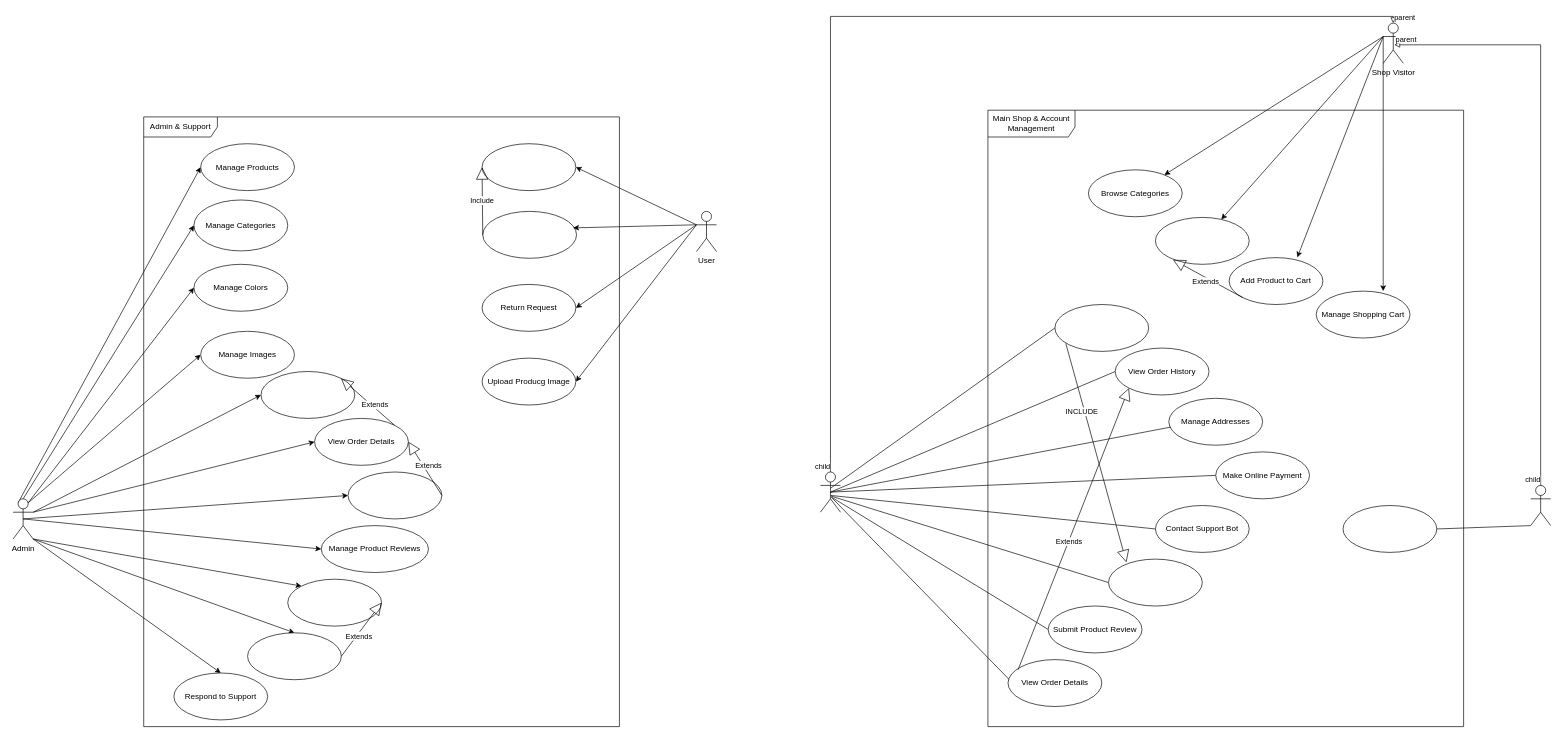
Some shapes in this 1562 by 738 pixel diagram are drawn without their labels. Each missing label, with the centre of its shape:
Browse Products: point (1202, 240)
Customer: point (830, 491)
Guest: point (1540, 505)
Login: point (1101, 327)
Place Order: point (1155, 582)
Register: point (1389, 528)
Update Order Status: point (394, 495)
Veiw Order Information: point (529, 234)
Verify Order: point (528, 167)
View Dashboard: point (334, 602)
View Orders: point (307, 394)
View Sales Report: point (294, 656)
